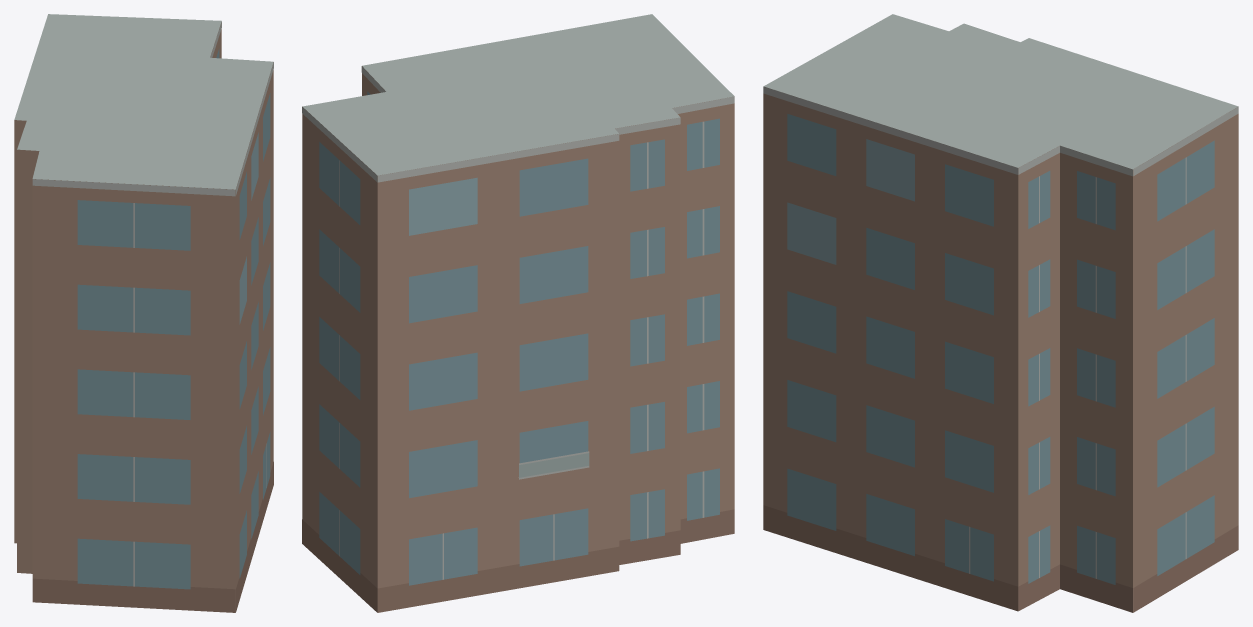
Rendered from survey-upis-32818582.glb.
3 renders of one model, left to right at view 1: azimuth 30°, elevation 25°; view 2: azimuth 150°, elevation 25°; view 3: azimuth 270°, elevation 25°, orthographic. The views are drawn at different scales.
Visible parts, largest first — view 1: survey-upis-32818582.tmp; view 2: survey-upis-32818582.tmp; view 3: survey-upis-32818582.tmp.
Boxes of the visible parts, x1,y1,x2,y2 form: survey-upis-32818582.tmp: (14,14,273,612); survey-upis-32818582.tmp: (302,14,734,612); survey-upis-32818582.tmp: (763,14,1238,612).
Size of the model in its own units: 11.47 by 15.25 by 14.82.
